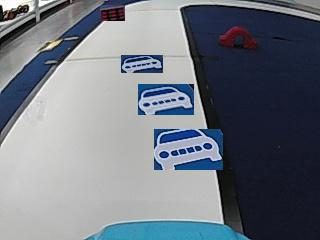bridge: (217, 26, 257, 48)
